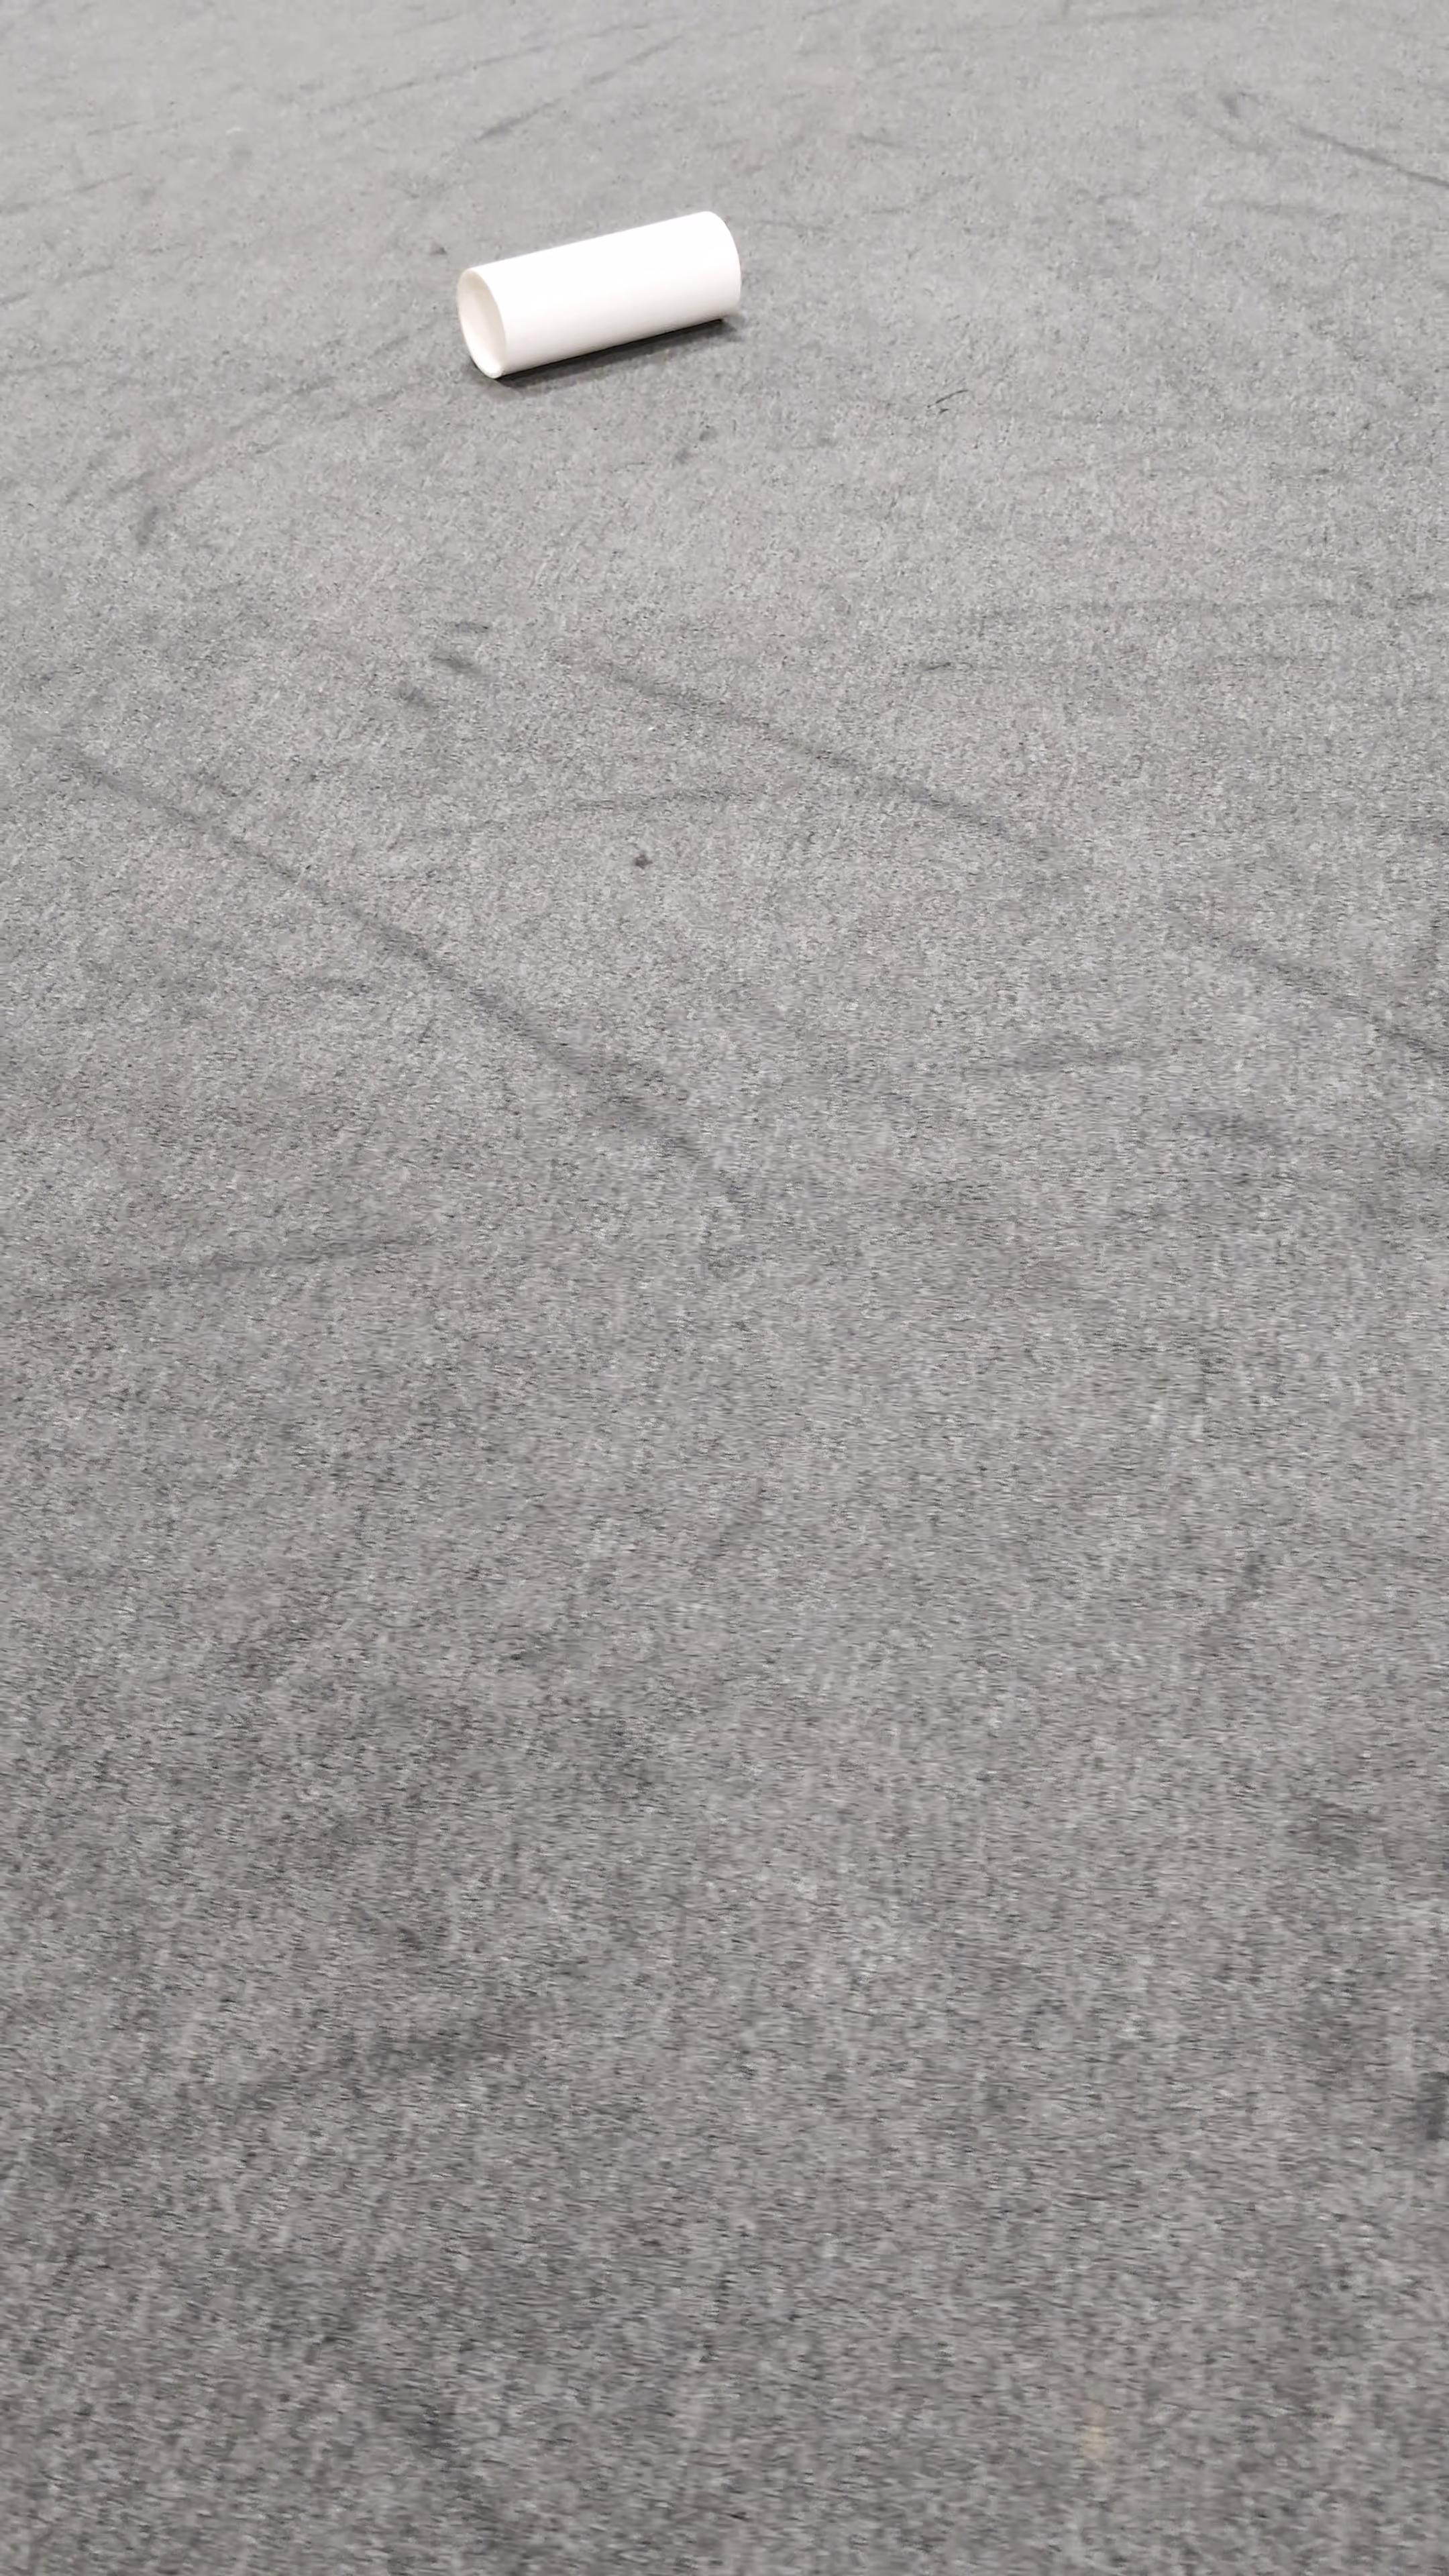coral: (455, 205, 745, 380)
